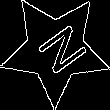N_SW: (24, 19, 86, 80)
